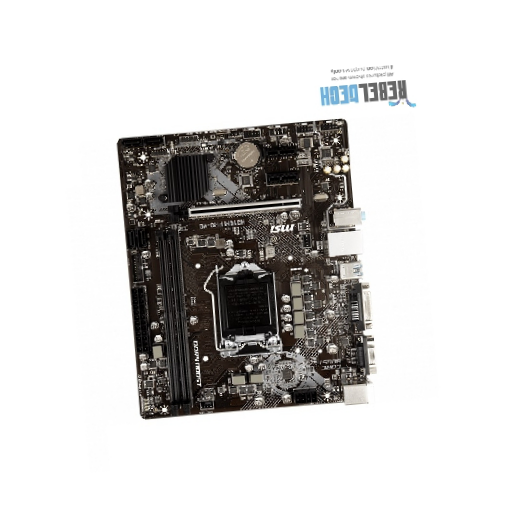CPU: (217, 260, 282, 356)
GPU: (169, 196, 301, 225)
MOTHERBOARD: (121, 119, 368, 419)
RAM: (156, 230, 193, 417)
